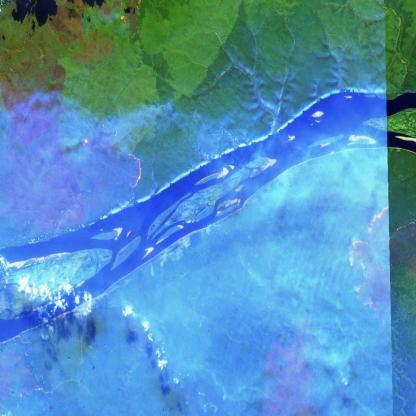fire: (345, 197, 397, 312), (118, 144, 146, 194), (78, 131, 94, 151)
